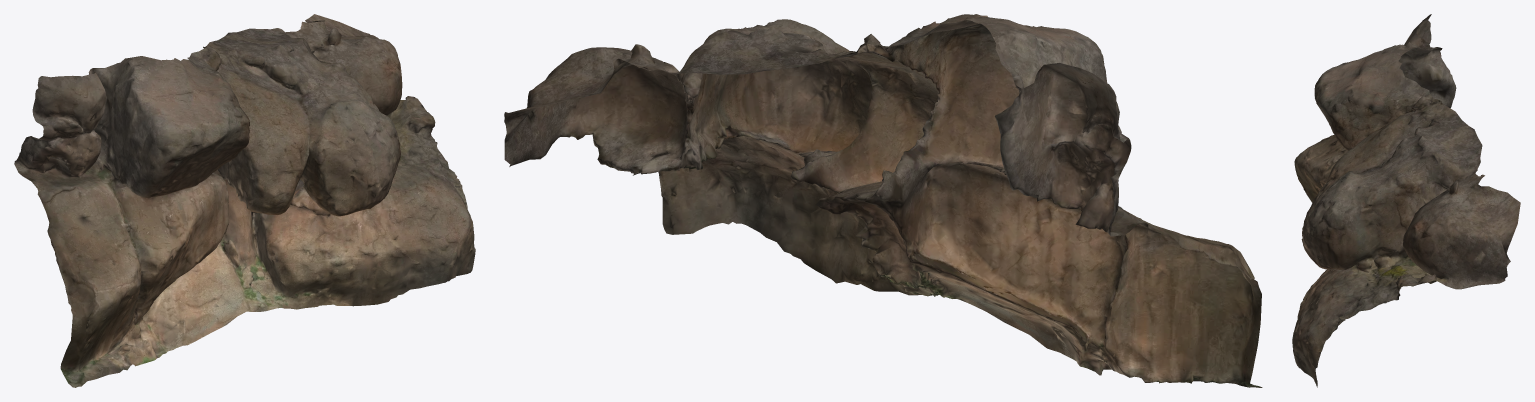
File: mesa_cliff.glb
The picture shows the model from 3 angles, left to right: view 1: azimuth 30°, elevation 25°; view 2: azimuth 150°, elevation 25°; view 3: azimuth 270°, elevation 25°; orthographic projection. The views are drawn at different scales.
Visible parts, largest first — view 1: drone_rock_01; view 2: drone_rock_01; view 3: drone_rock_01.
Part boxes in pixels (bbox=[...]): drone_rock_01: bbox=[14, 14, 475, 387]; drone_rock_01: bbox=[504, 14, 1262, 387]; drone_rock_01: bbox=[1292, 14, 1520, 387].
Bounding box in the file's own units: 8.28 × 4.96 × 4.39.
1 material, 1 textured.
